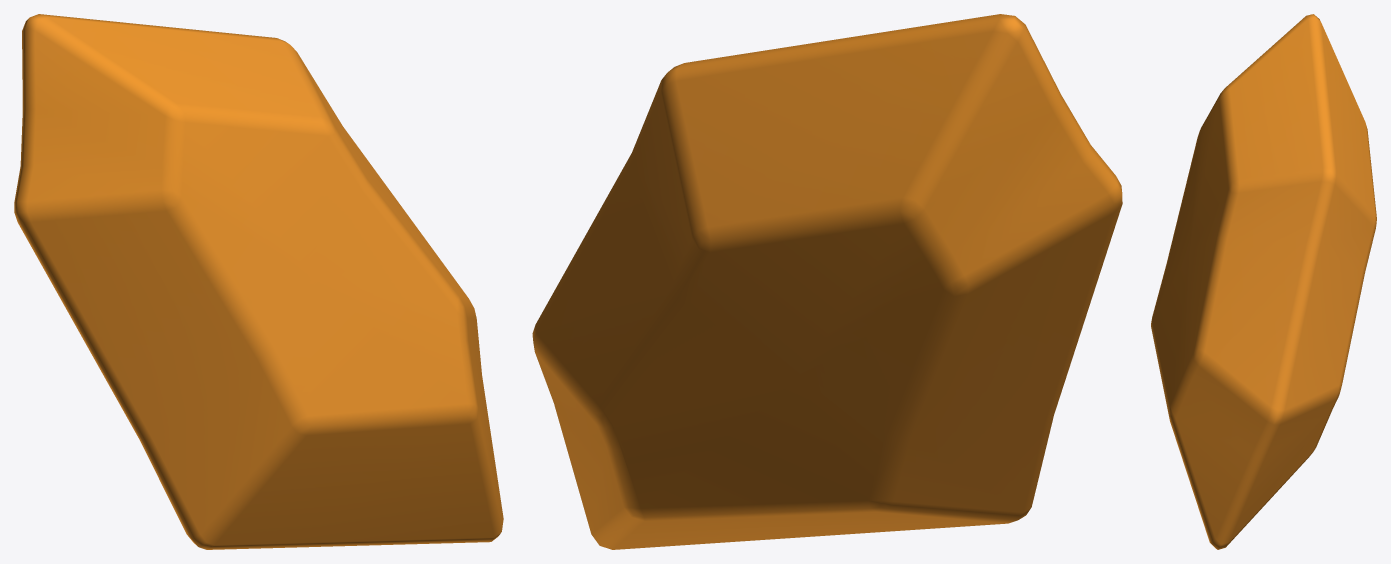
The picture shows the model from 3 angles, left to right: view 1: azimuth 30°, elevation 25°; view 2: azimuth 150°, elevation 25°; view 3: azimuth 270°, elevation 25°; orthographic projection. The views are drawn at different scales.
Visible parts, largest first — view 1: model_1.136; view 2: model_1.136; view 3: model_1.136.
Part boxes in pixels (bbox=[...]): model_1.136: bbox=[14, 14, 503, 549]; model_1.136: bbox=[532, 14, 1122, 549]; model_1.136: bbox=[1151, 14, 1376, 549].
Bounding box in the file's own units: 3.48 × 4.07 × 2.08.
